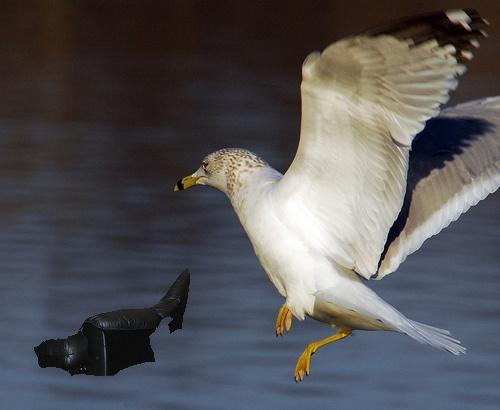tampered: (35, 270, 190, 376)
